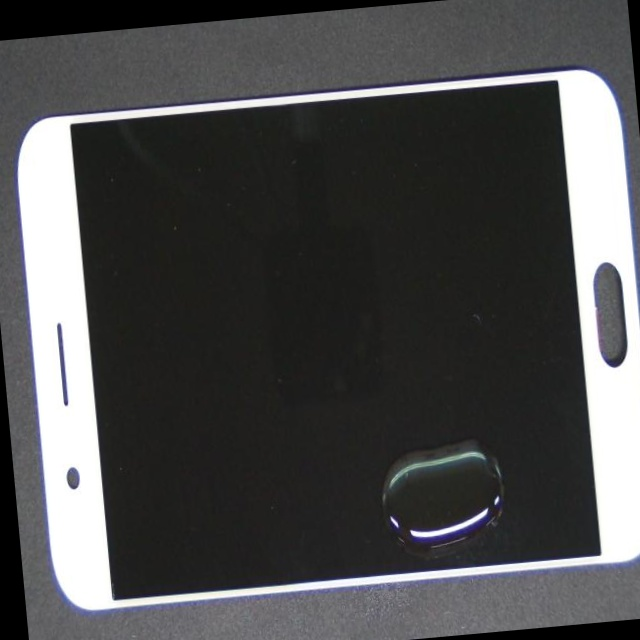oil: (275, 256, 640, 640)
